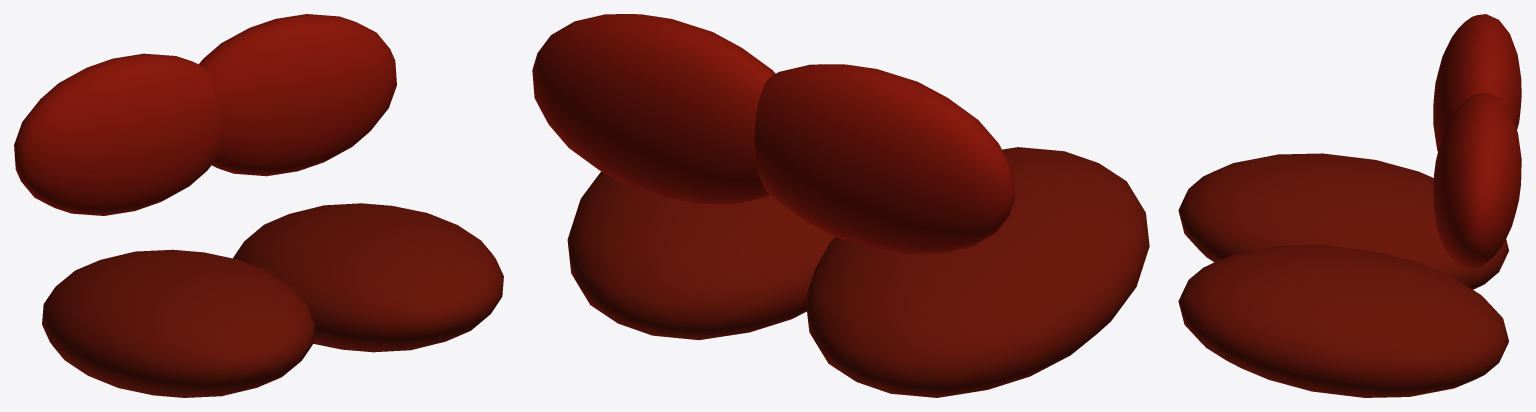
The model's file is SheenChair_032B_ellip.glb.
The picture shows the model from 3 angles, left to right: view 1: azimuth 30°, elevation 25°; view 2: azimuth 150°, elevation 25°; view 3: azimuth 270°, elevation 25°; orthographic projection. The views are drawn at different scales.
Size of the model in its own units: 1.98 by 1.24 by 1.47.
